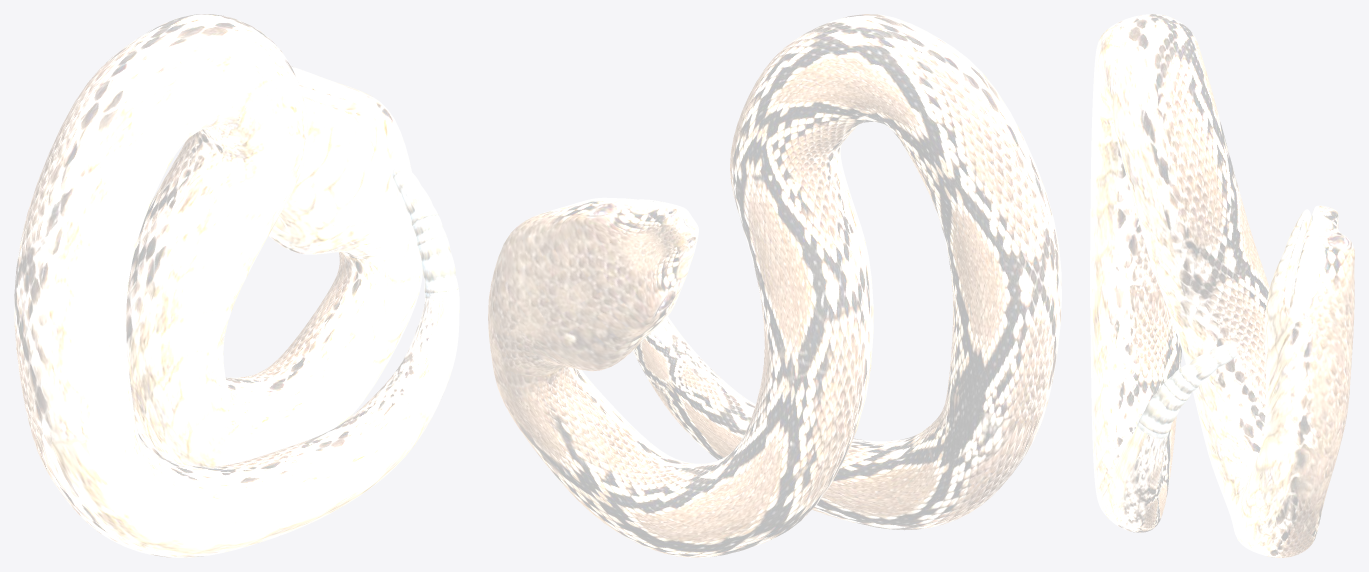
Rendered from snake.glb.
The picture shows the model from 3 angles, left to right: view 1: azimuth 30°, elevation 25°; view 2: azimuth 150°, elevation 25°; view 3: azimuth 270°, elevation 25°; orthographic projection. The views are drawn at different scales.
Parts seen in each view (by area): view 1: 10050_RattleSnake_v4_L3; view 2: 10050_RattleSnake_v4_L3; view 3: 10050_RattleSnake_v4_L3.
Boxes of the visible parts, x1,y1,x2,y2 form: 10050_RattleSnake_v4_L3: (14,14,459,557); 10050_RattleSnake_v4_L3: (488,14,1061,557); 10050_RattleSnake_v4_L3: (1090,14,1354,557).
Bounding box in the file's own units: 34.21 × 35.68 × 18.41.
Materials: 1 (1 with a texture image).
